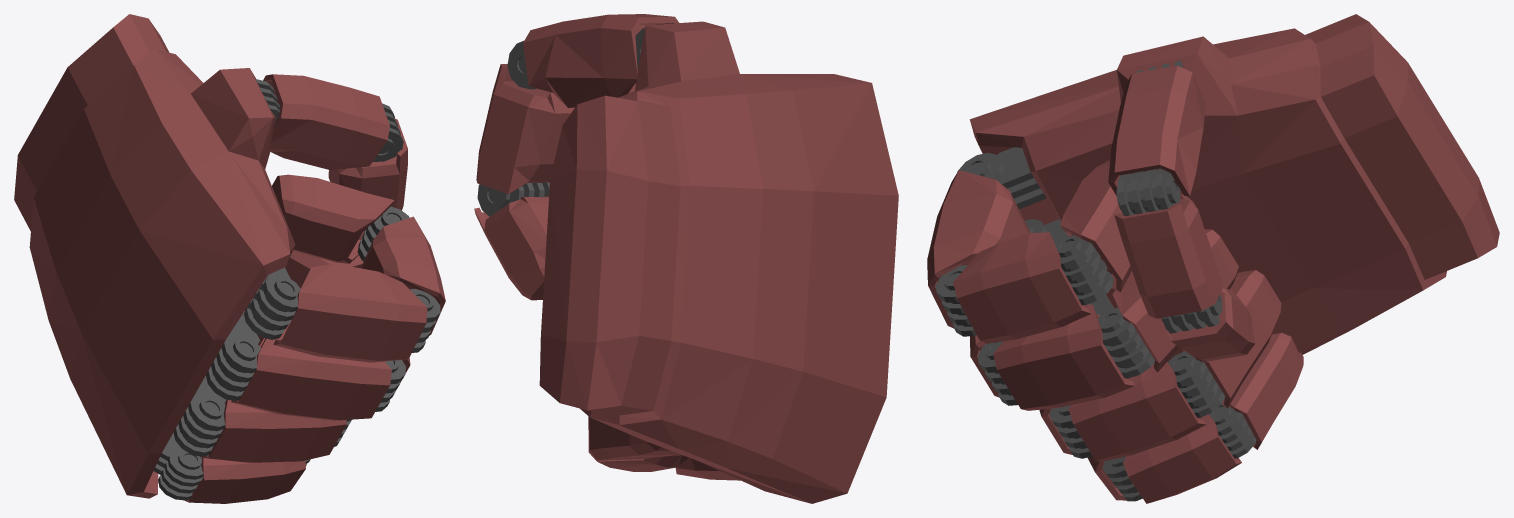
3 views of the same model, side by side, from view 1: azimuth 30°, elevation 25°; view 2: azimuth 150°, elevation 25°; view 3: azimuth 270°, elevation 25° (orthographic). The views are drawn at different scales.
Visible parts, largest first — view 1: A2, A1; view 2: A2, A1; view 3: A2, A1.
Part boxes in pixels (left/top/right/bottom): A2: left=14, top=14, right=445, bottom=503; A1: left=153, top=79, right=440, bottom=500; A2: left=474, top=14, right=898, bottom=503; A1: left=477, top=28, right=681, bottom=455; A2: left=927, top=14, right=1499, bottom=503; A1: left=935, top=60, right=1256, bottom=501.
Size of the model in its own units: 132 by 175 by 200.
